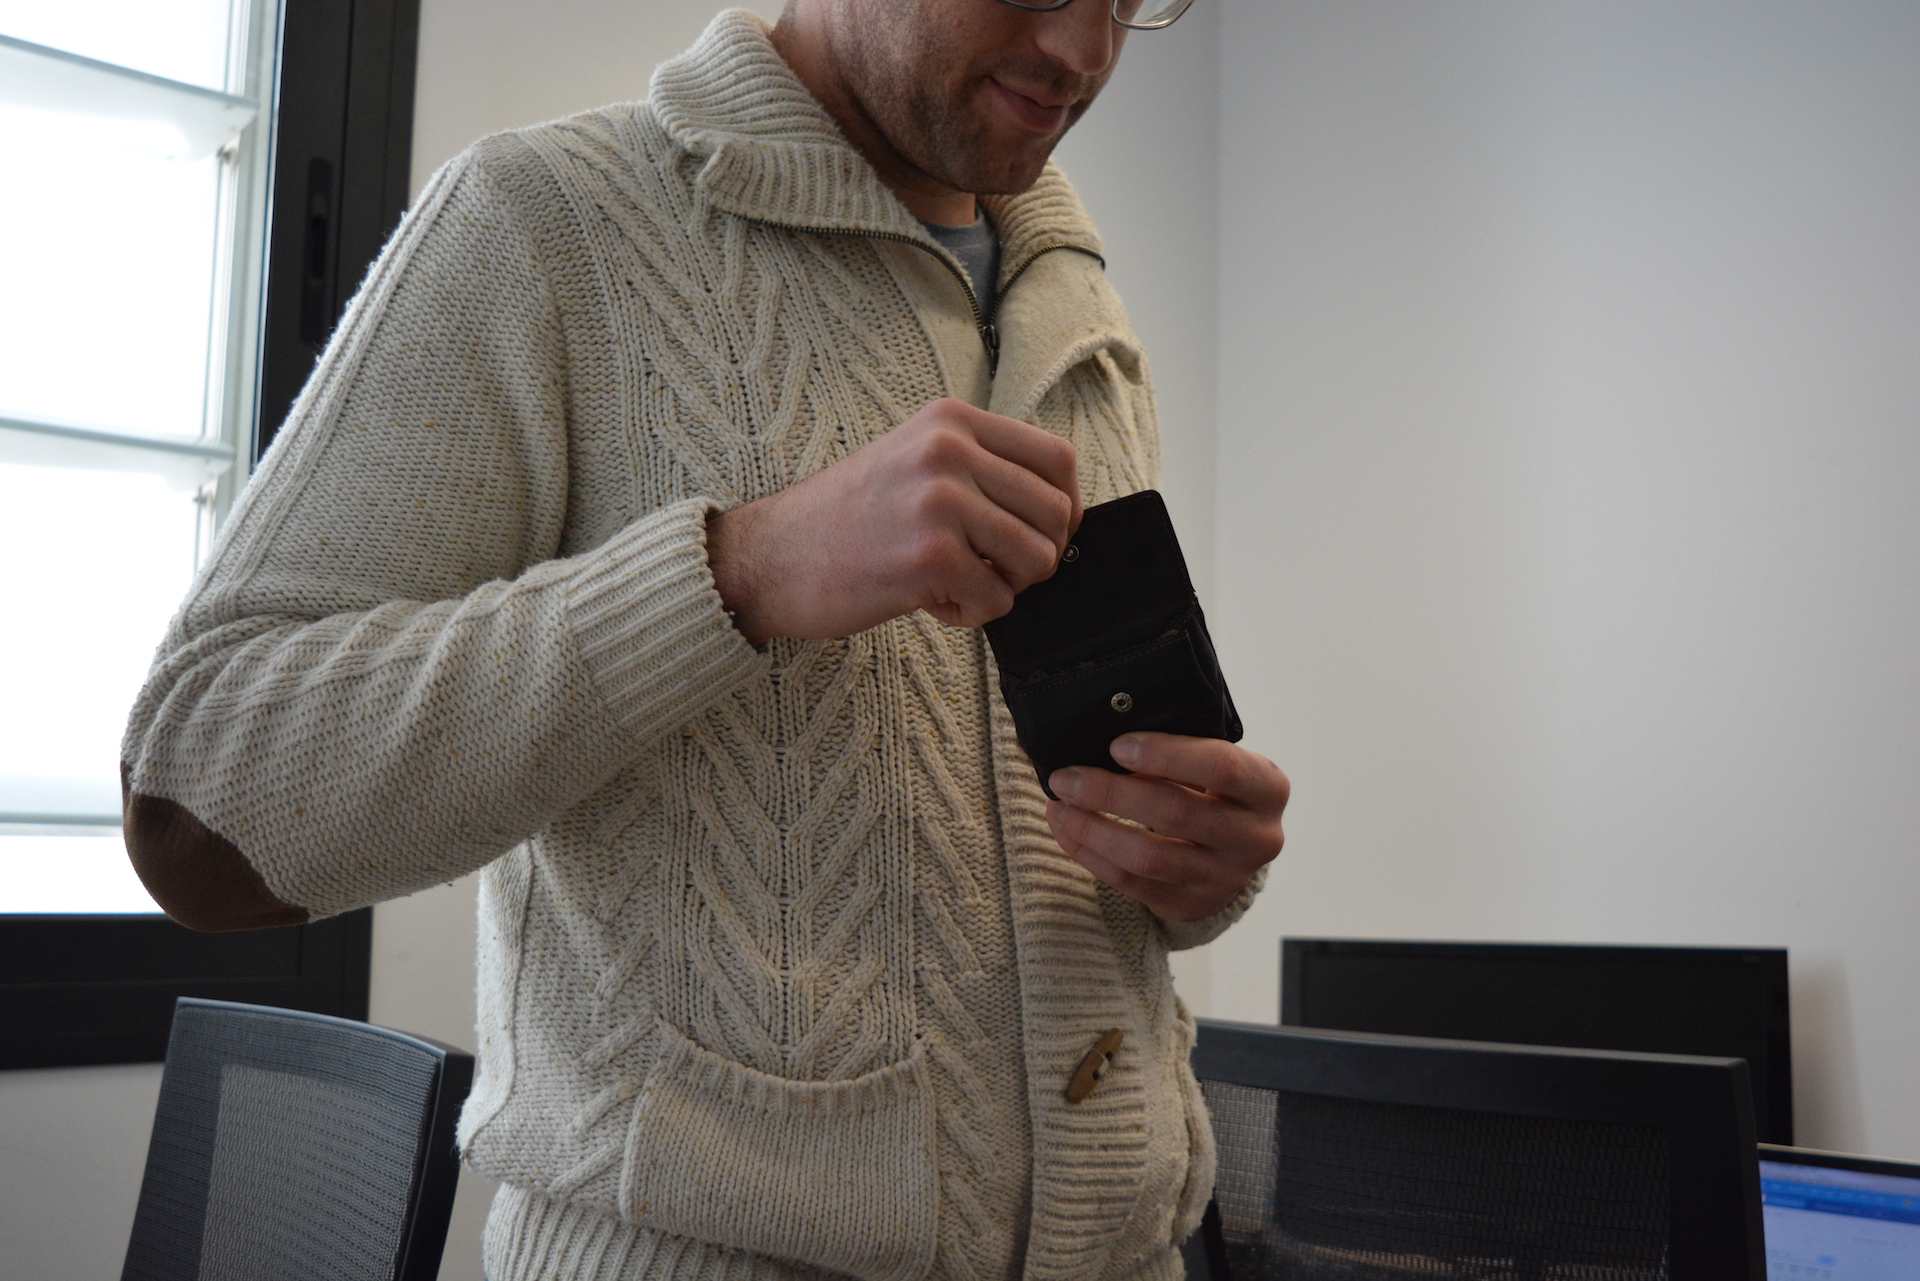monedero: (982, 488, 1247, 806)
